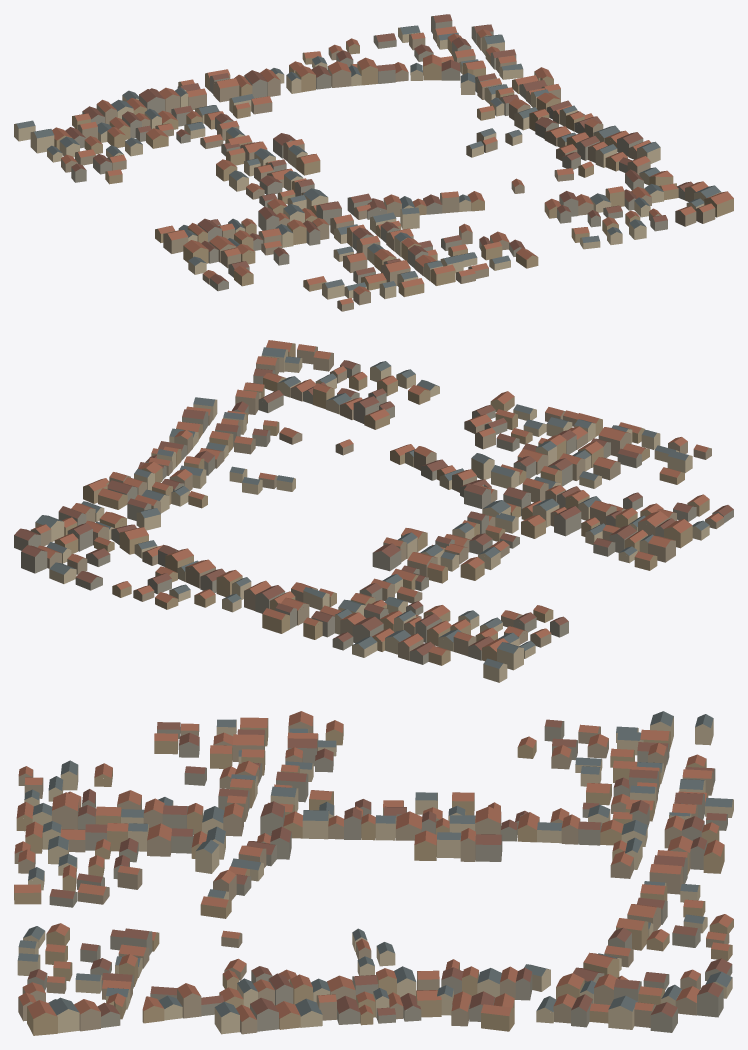
The picture shows the model from 3 angles, top to bottom: view 1: azimuth 30°, elevation 25°; view 2: azimuth 150°, elevation 25°; view 3: azimuth 270°, elevation 25°; orthographic projection. The views are drawn at different scales.
Visible parts, largest first — view 1: C_-3_2; view 2: C_-3_2; view 3: C_-3_2.
Boxes of the visible parts, x1,y1,x2,y2 form: C_-3_2: [14, 14, 733, 311]; C_-3_2: [14, 340, 733, 682]; C_-3_2: [14, 711, 733, 1035].
Bounding box in the file's own units: 371 × 14.63 × 371.
